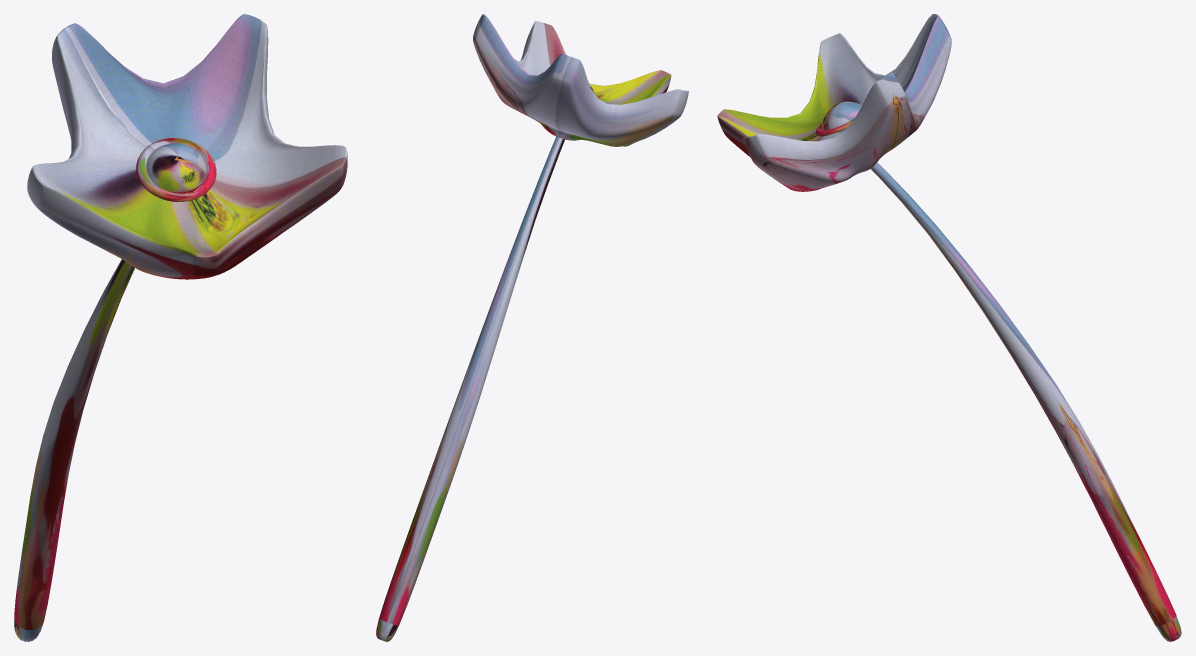
Rendered from stemflower.002.gltf.
3 renders of one model, left to right at view 1: azimuth 30°, elevation 25°; view 2: azimuth 150°, elevation 25°; view 3: azimuth 270°, elevation 25°, orthographic. The views are drawn at different scales.
Visible parts, largest first — view 1: stemflower.002; view 2: stemflower.002; view 3: stemflower.002.
Part boxes in pixels (box(x1,y1,x2,y2)): stemflower.002: box(14, 14, 347, 641); stemflower.002: box(376, 14, 688, 641); stemflower.002: box(717, 14, 1181, 641).
Size of the model in its own units: 10.18 by 27.27 by 19.61.
Materials: 1 (1 with a texture image).
